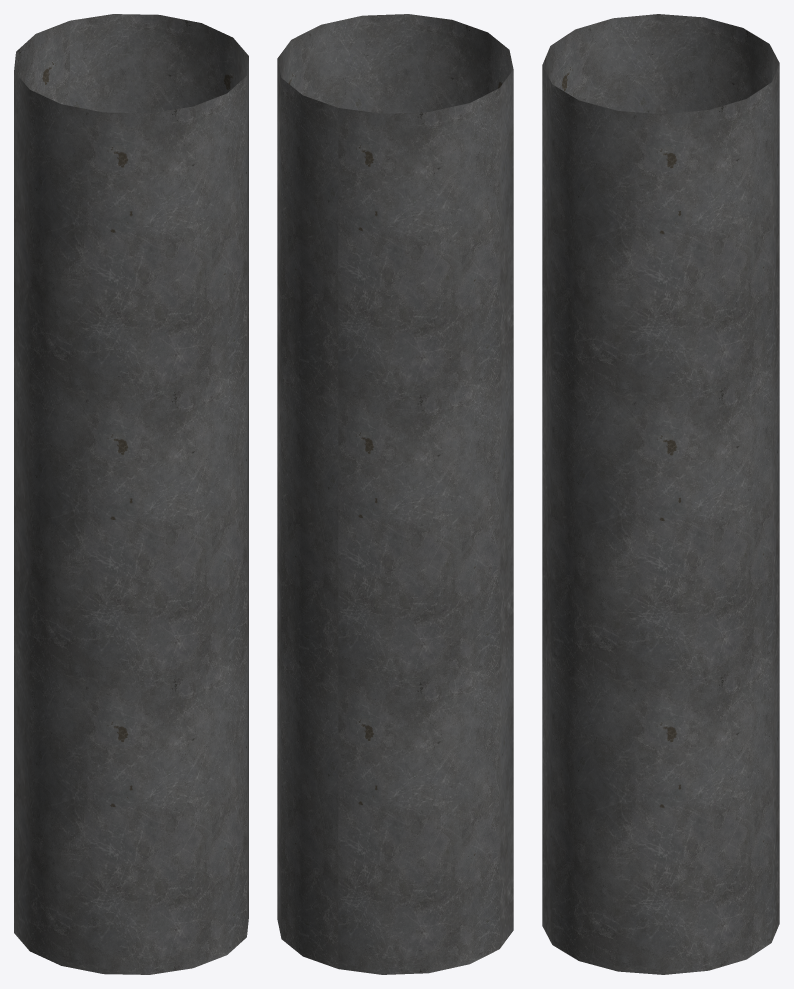
Rendered from col_03.obj.
The picture shows the model from 3 angles, left to right: view 1: azimuth 30°, elevation 25°; view 2: azimuth 150°, elevation 25°; view 3: azimuth 270°, elevation 25°; orthographic projection.
Parts seen in each view (by area): view 1: pCylinder4; view 2: pCylinder4; view 3: pCylinder4.
Part boxes in pixels (x1,y1,x2,y2): pCylinder4: [14, 14, 248, 974]; pCylinder4: [277, 14, 513, 974]; pCylinder4: [542, 14, 779, 974].
Size of the model in its own units: 99.98 by 400 by 99.98.
1 material, 1 textured.
